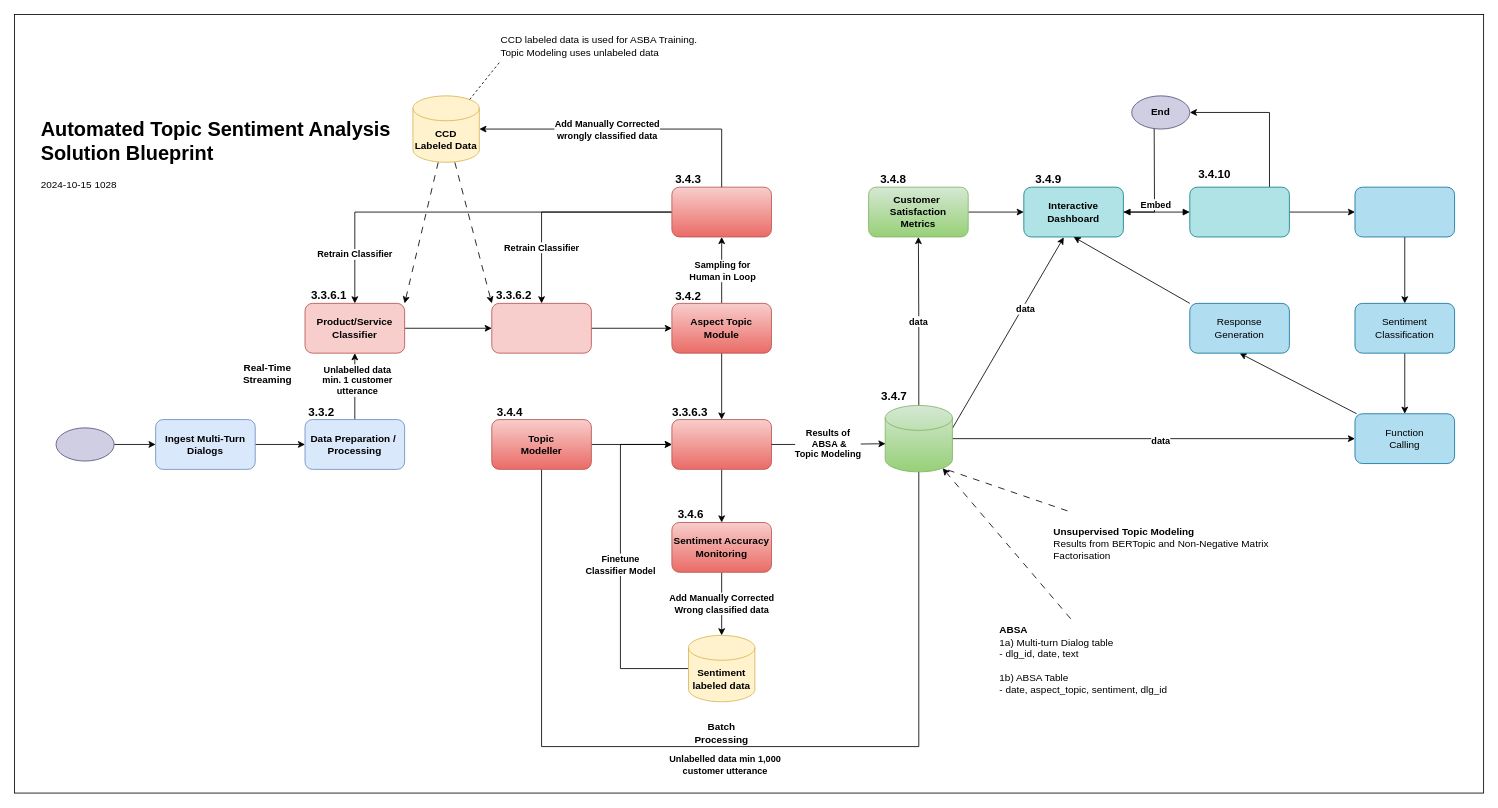
Some shapes in this 1498 by 808 pixel diagram are drawn without their labels. The shapes that lost their labels are listed below. From the top down, each one's centre as x and y in pixels, then its label:
At [721,211]: "Aspect Topic Accuracy Monitoring".
At [1239,211]: "Conversational User Interface".
At [1404,211]: "Intent Classification".
At [541,328]: "Intent Action Classifier".
At [84,444]: "Begin".
At [721,444]: "Sentiment Classifier".
At [918,438]: "Topics DB".
